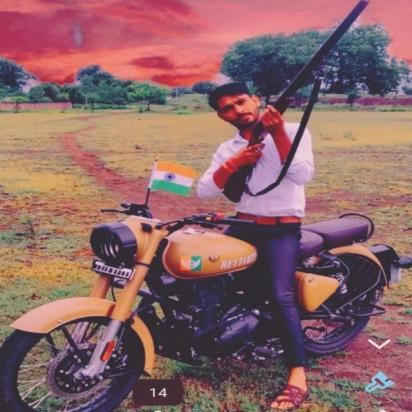Gun: (220, 0, 370, 205)
